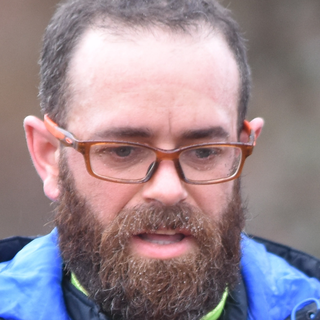eye: (95, 139, 146, 163), (180, 140, 226, 166)
